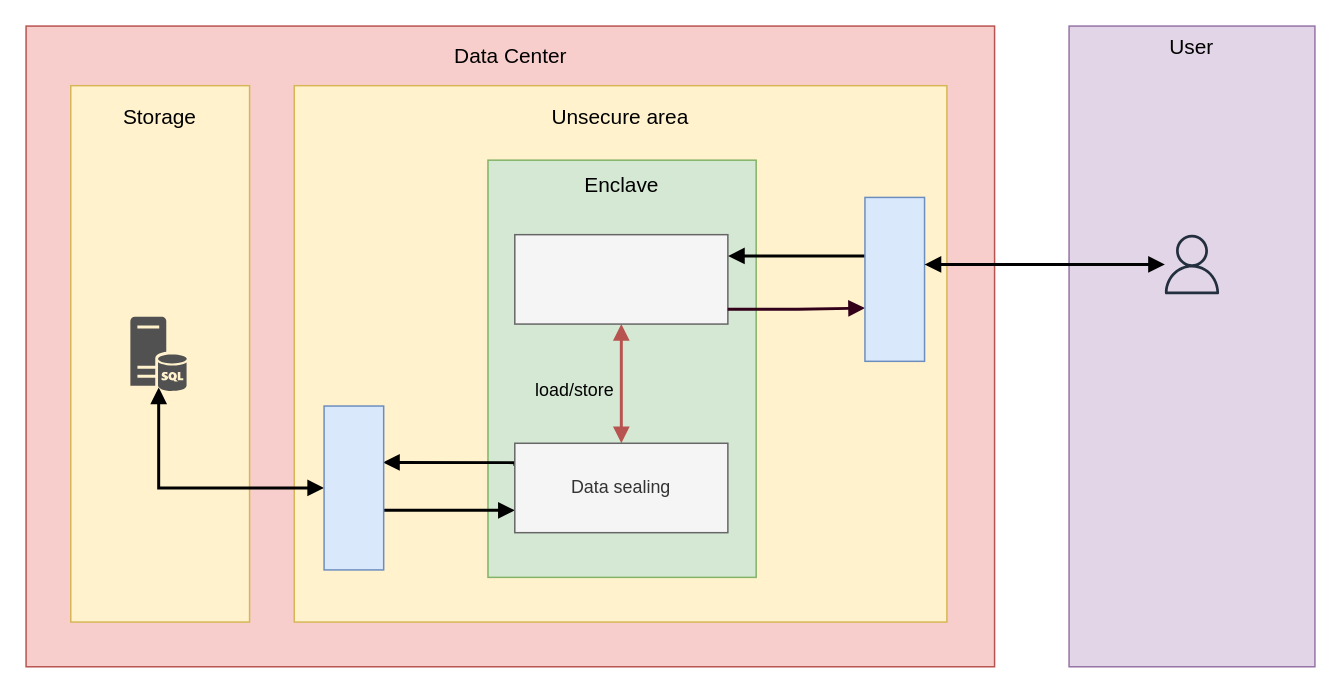
This 1341x693 diagram has some shape labels left out. The centre of each missing label's shape, as x and y in pixels:
Instruction relay: the point at 894,278
SQL Handler: the point at 620,278
Storage Handler: the point at 353,487
